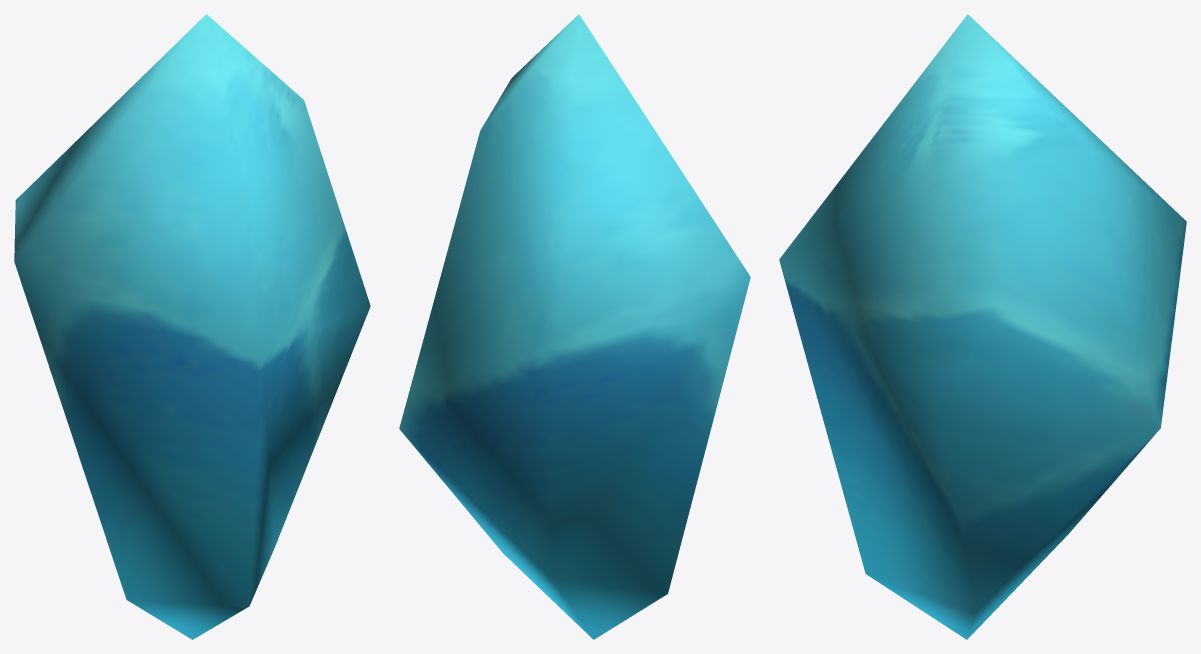
Rendered from sn_newshanlin_shuijing_004.FBX.
3 views of the same model, side by side, from view 1: azimuth 30°, elevation 25°; view 2: azimuth 150°, elevation 25°; view 3: azimuth 270°, elevation 25° (orthographic).
Parts seen in each view (by area): view 1: sn_newshanlin_shuijing_004; view 2: sn_newshanlin_shuijing_004; view 3: sn_newshanlin_shuijing_004.
Part boxes in pixels (x1,y1,x2,y2): sn_newshanlin_shuijing_004: (14, 14, 370, 639); sn_newshanlin_shuijing_004: (399, 14, 750, 639); sn_newshanlin_shuijing_004: (779, 14, 1186, 639).
Size of the model in its own units: 5.14 by 5.33 by 9.12.
